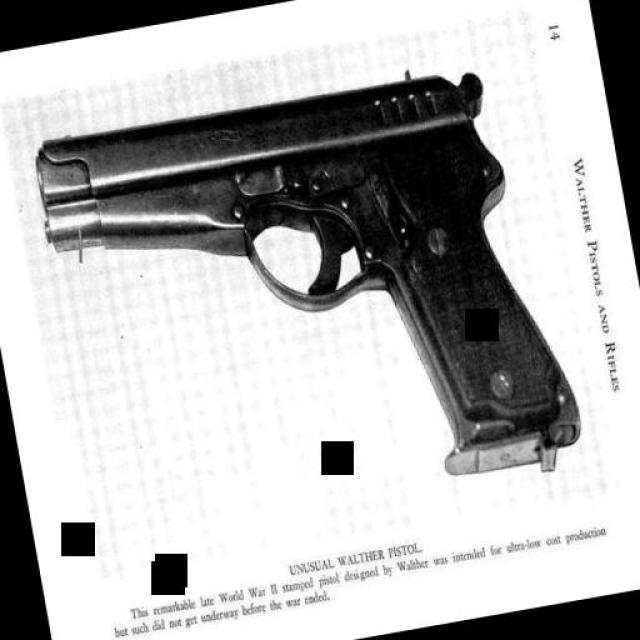gun: (18, 42, 592, 558)
